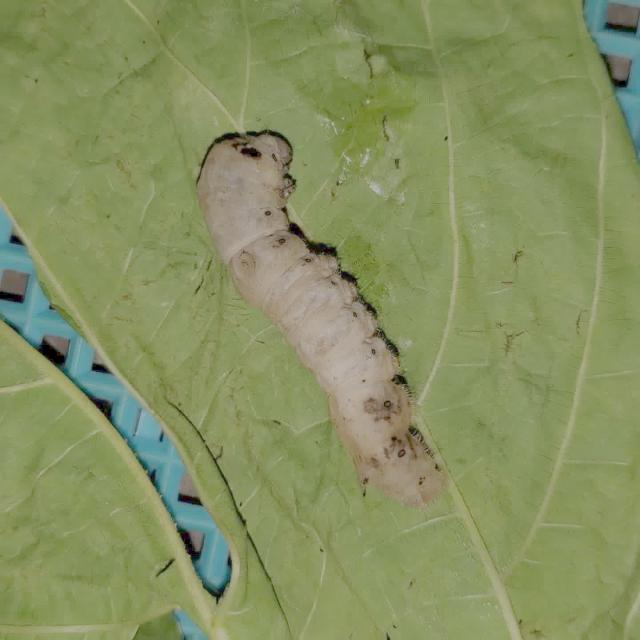Grasserie: (169, 102, 452, 533)
